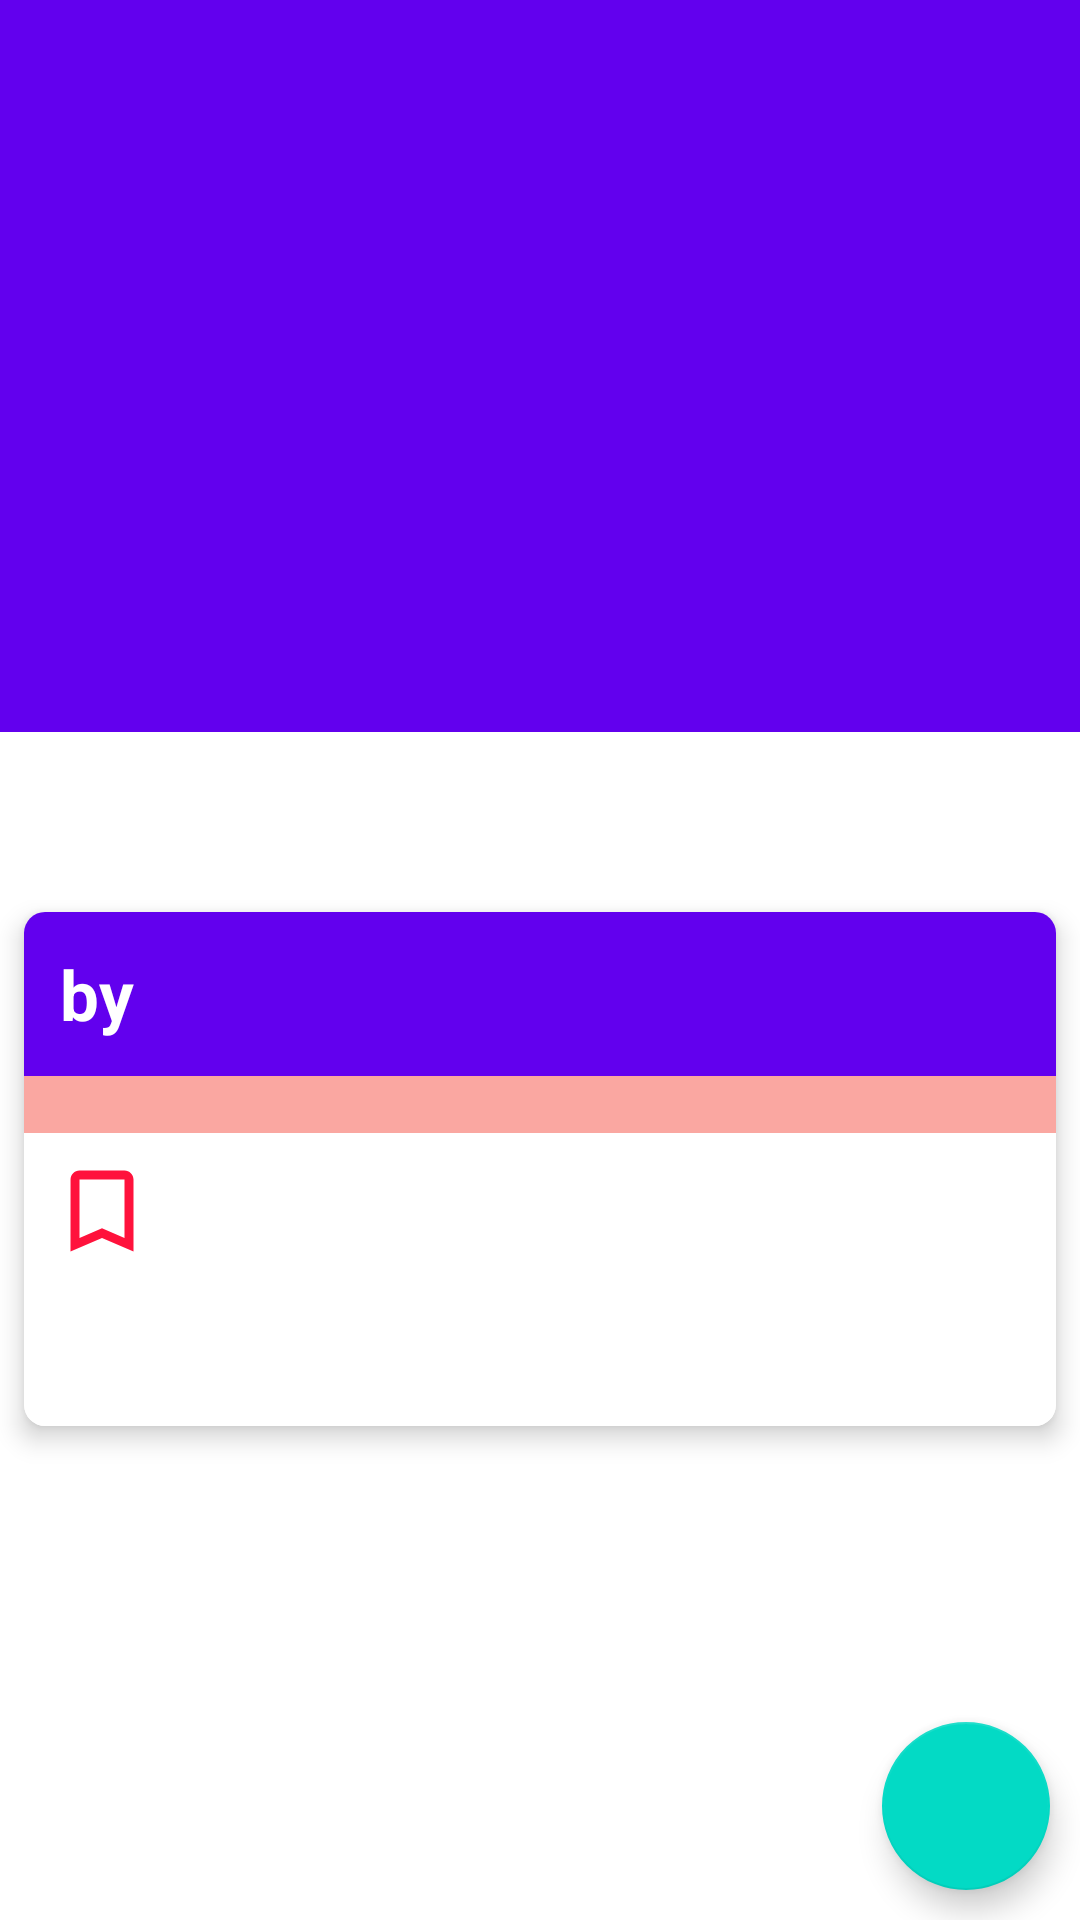

Where icons sit on this 1080 x 1920 app screen, as BBox(x1, y1, x2, y2):
bookmark: BBox(70, 1170, 134, 1252)
